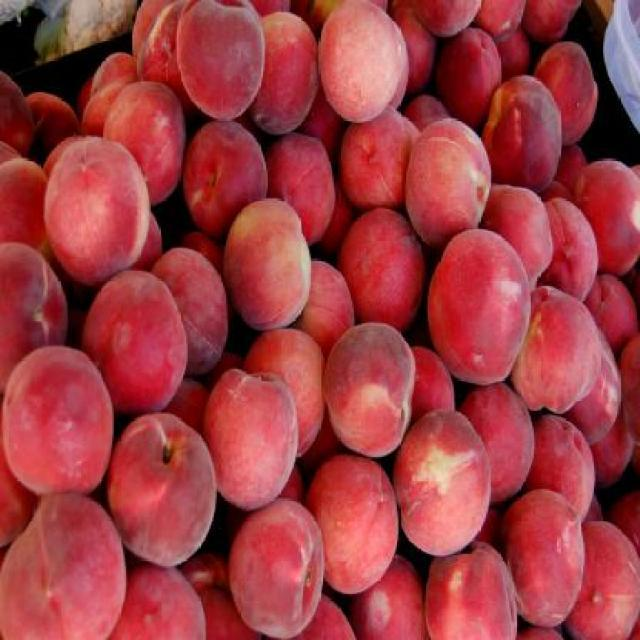Peach: (0, 0, 638, 638), (218, 199, 311, 336)
